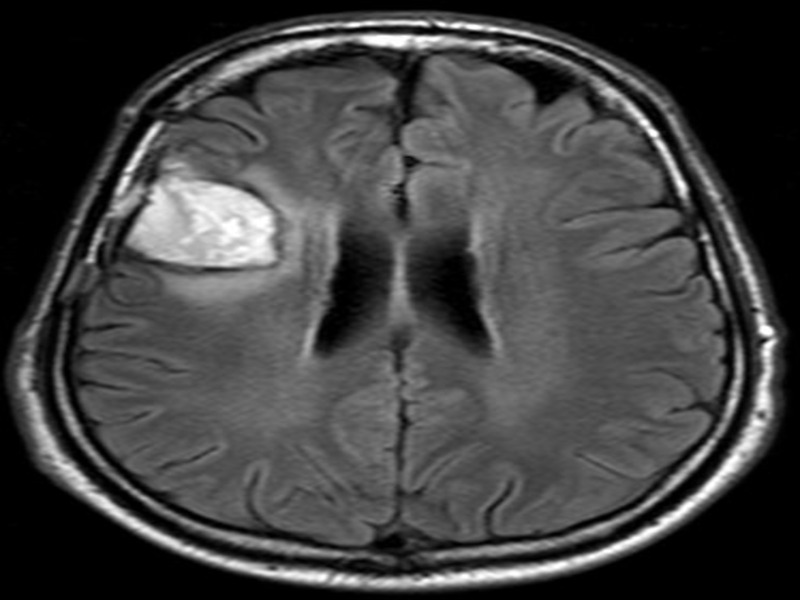tumor: (112, 165, 283, 280)
